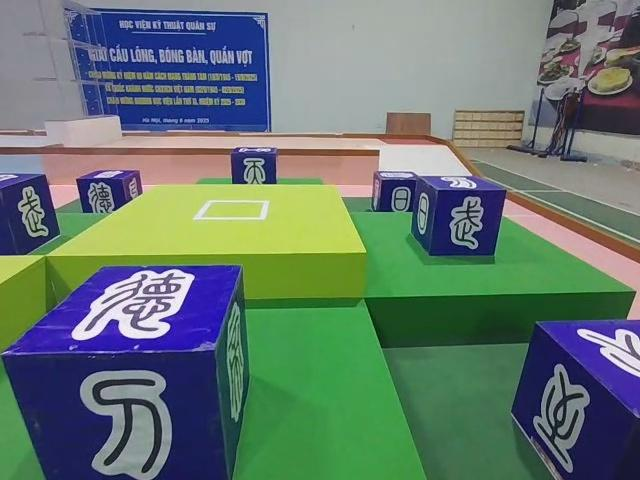R2 Fake Blue: (0, 259, 250, 480), (509, 317, 639, 480), (412, 176, 508, 258), (0, 175, 60, 259), (74, 168, 142, 213), (368, 169, 419, 212), (231, 146, 280, 187)
